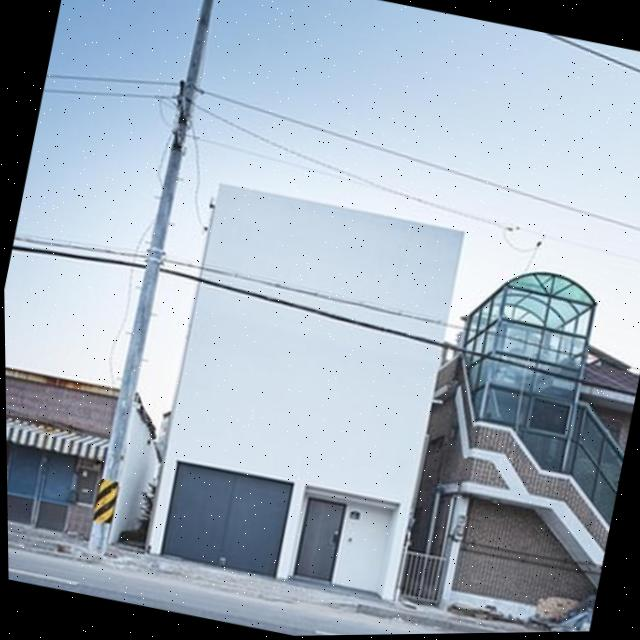building: (125, 173, 481, 606), (396, 237, 640, 626), (5, 345, 177, 554)
